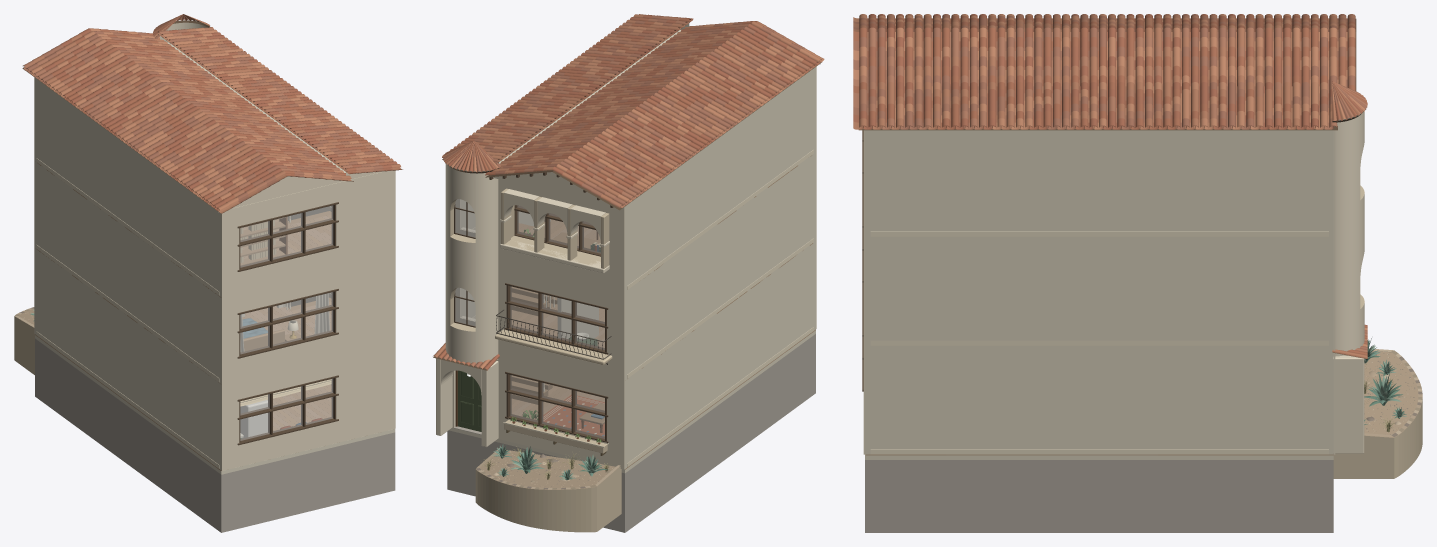
The model's file is terrace.glb.
3 views of the same model, side by side, from view 1: azimuth 30°, elevation 25°; view 2: azimuth 150°, elevation 25°; view 3: azimuth 270°, elevation 25° (orthographic). The views are drawn at different scales.
Parts seen in each view (by area): view 1: foundation - cast-stone@b9b2a7, ground-storey - lime-plaster@e3dbc6, bedroom-storey - lime-plaster@e3dbc6, workroom-storey - lime-plaster@e3dbc6, workroom-storey - painted-stucco@eadfc8, ground-storey - painted-stucco@eadfc8, bedroom-storey - painted-stucco@eadfc8, terrace-roof - fired-clay@bf8769, terrace-roof - fired-clay@ab7056, terrace-roof - fired-clay@b37c60, terrace-roof - fired-clay@a96e56, terrace-roof - fired-clay@a7745e (+21 smaller); view 2: ground-storey - lime-plaster@e3dbc6, bedroom-storey - lime-plaster@e3dbc6, workroom-storey - lime-plaster@e3dbc6, foundation - cast-stone@b9b2a7, rounded-stair-bay - painted-stucco@eadfc8, terrace-roof - fired-clay@bf8769, terrace-roof - fired-clay@ab7056, terrace-roof - fired-clay@b37c60, terrace-roof - fired-clay@a96e56, terrace-roof - fired-clay@a7745e, terrace-roof - fired-clay@b07b62, front-dry-garden - float-finish-stucco@d5c6aa (+30 smaller); view 3: ground-storey - lime-plaster@e3dbc6, bedroom-storey - lime-plaster@e3dbc6, workroom-storey - lime-plaster@e3dbc6, foundation - cast-stone@b9b2a7, terrace-roof - fired-clay@ab7056, terrace-roof - fired-clay@bf8769, terrace-roof - fired-clay@a7745e, terrace-roof - fired-clay@a96e56, terrace-roof - fired-clay@b37c60, terrace-roof - fired-clay@b07b62, rounded-stair-bay - painted-stucco@eadfc8, front-dry-garden - float-finish-stucco@d5c6aa (+6 smaller).
Part boxes in pixels (x1,y1,x2,y2): foundation - cast-stone@b9b2a7: (35, 338, 395, 532); ground-storey - lime-plaster@e3dbc6: (35, 248, 395, 474); bedroom-storey - lime-plaster@e3dbc6: (35, 161, 331, 385); workroom-storey - lime-plaster@e3dbc6: (35, 42, 331, 300); workroom-storey - painted-stucco@eadfc8: (34, 77, 395, 297); ground-storey - painted-stucco@eadfc8: (34, 247, 395, 470); bedroom-storey - painted-stucco@eadfc8: (34, 160, 395, 384); terrace-roof - fired-clay@bf8769: (30, 27, 377, 213); terrace-roof - fired-clay@ab7056: (51, 29, 388, 208); terrace-roof - fired-clay@b37c60: (32, 28, 402, 200); terrace-roof - fired-clay@a96e56: (43, 28, 397, 210); terrace-roof - fired-clay@a7745e: (26, 29, 385, 202); ground-storey - lime-plaster@e3dbc6: (449, 241, 815, 473); bedroom-storey - lime-plaster@e3dbc6: (460, 152, 815, 380); workroom-storey - lime-plaster@e3dbc6: (460, 30, 815, 291); foundation - cast-stone@b9b2a7: (447, 334, 815, 532); rounded-stair-bay - painted-stucco@eadfc8: (445, 163, 498, 363); terrace-roof - fired-clay@bf8769: (472, 22, 824, 202); terrace-roof - fired-clay@ab7056: (464, 17, 816, 188); terrace-roof - fired-clay@b37c60: (457, 14, 805, 202); terrace-roof - fired-clay@a96e56: (450, 14, 820, 194); terrace-roof - fired-clay@a7745e: (474, 15, 804, 205); terrace-roof - fired-clay@b07b62: (442, 16, 812, 207); front-dry-garden - float-finish-stucco@d5c6aa: (475, 466, 621, 532); ground-storey - lime-plaster@e3dbc6: (865, 345, 1333, 459); bedroom-storey - lime-plaster@e3dbc6: (865, 237, 1333, 350); workroom-storey - lime-plaster@e3dbc6: (865, 130, 1333, 241); foundation - cast-stone@b9b2a7: (865, 460, 1333, 532); terrace-roof - fired-clay@ab7056: (853, 14, 1355, 129); terrace-roof - fired-clay@bf8769: (853, 14, 1355, 129); terrace-roof - fired-clay@a7745e: (853, 14, 1355, 129); terrace-roof - fired-clay@a96e56: (853, 14, 1355, 129); terrace-roof - fired-clay@b37c60: (853, 14, 1355, 129); terrace-roof - fired-clay@b07b62: (853, 14, 1355, 129); rounded-stair-bay - painted-stucco@eadfc8: (1333, 111, 1364, 356); front-dry-garden - float-finish-stucco@d5c6aa: (1333, 350, 1422, 478).
Bounding box in the file's own units: 7.3 × 13.37 × 15.79.
